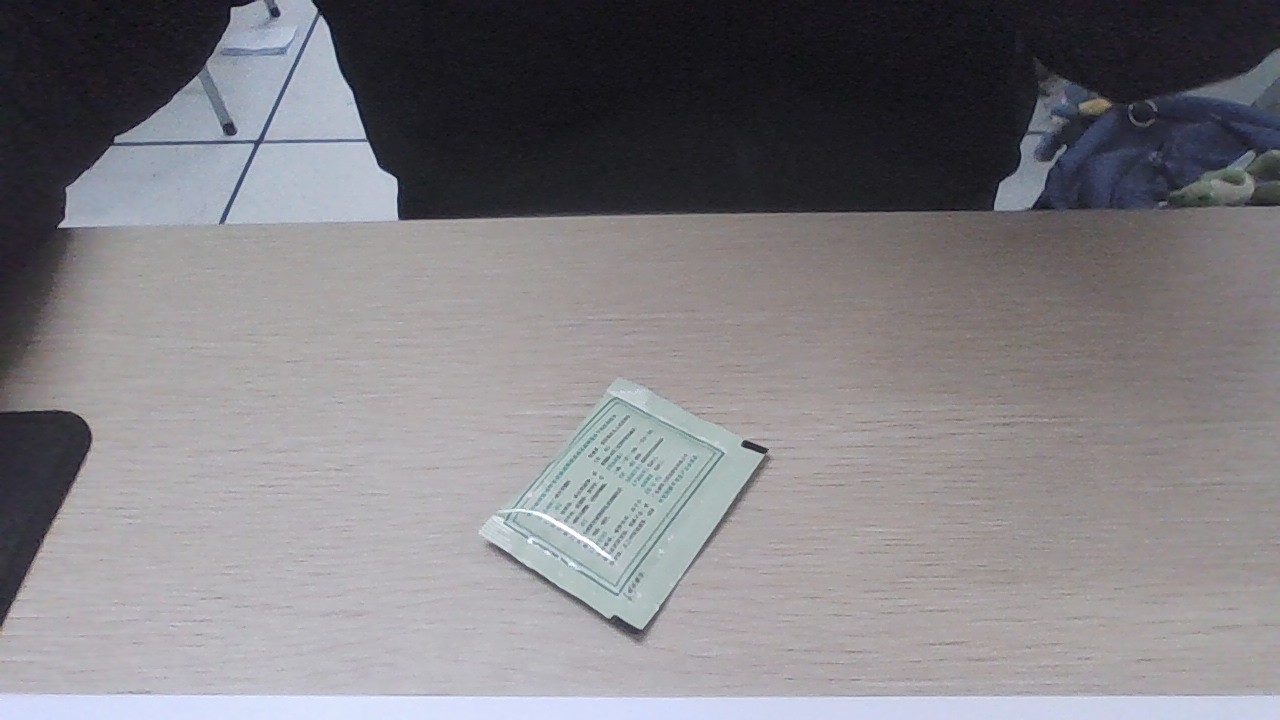YH-green medicine: (493, 384, 751, 591)
